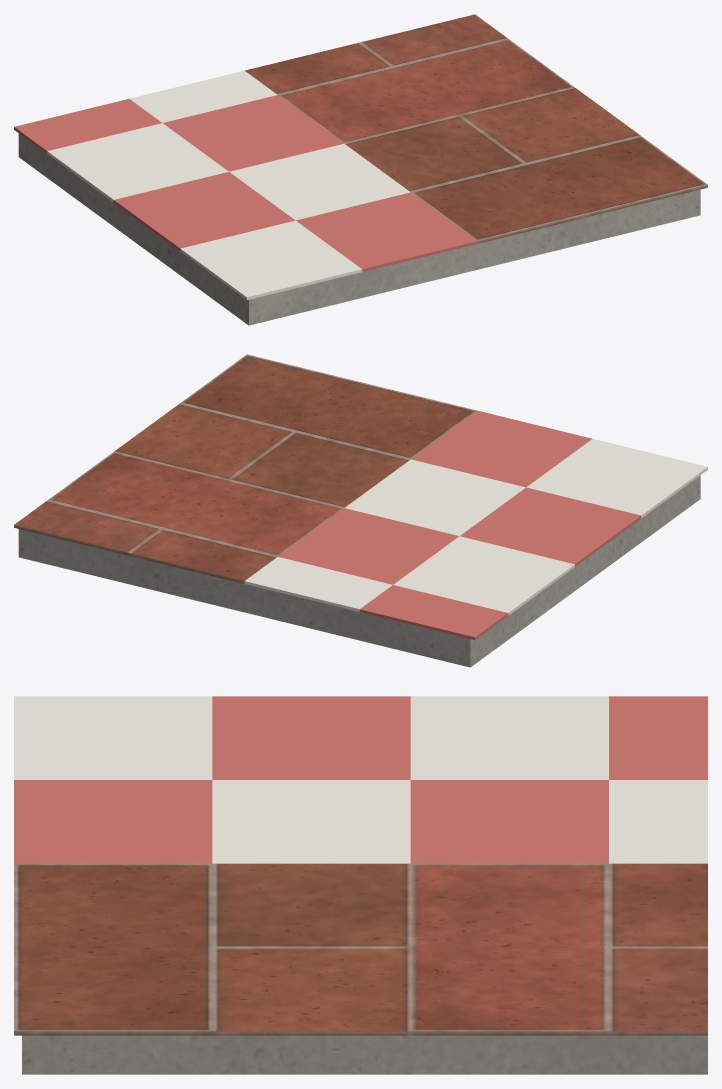
File: floor_half_e0_0_25_0.glb
The picture shows the model from 3 angles, top to bottom: view 1: azimuth 30°, elevation 25°; view 2: azimuth 150°, elevation 25°; view 3: azimuth 270°, elevation 25°; orthographic projection. The views are drawn at different scales.
Visible parts, largest first — view 1: floor_half_e0_0_25_0_quarry, floor_half_e0_0_25_0_tile_w, floor_half_e0_0_25_0_tile_r, floor_half_e0_0_25_0_concrete; view 2: floor_half_e0_0_25_0_quarry, floor_half_e0_0_25_0_tile_w, floor_half_e0_0_25_0_tile_r, floor_half_e0_0_25_0_concrete; view 3: floor_half_e0_0_25_0_quarry, floor_half_e0_0_25_0_tile_r, floor_half_e0_0_25_0_tile_w, floor_half_e0_0_25_0_concrete.
Part boxes in pixels (<box>): floor_half_e0_0_25_0_quarry: <box>245,14,707,243</box>; floor_half_e0_0_25_0_tile_w: <box>47,70,410,299</box>; floor_half_e0_0_25_0_tile_r: <box>14,95,477,271</box>; floor_half_e0_0_25_0_concrete: <box>18,133,700,325</box>; floor_half_e0_0_25_0_quarry: <box>14,354,476,583</box>; floor_half_e0_0_25_0_tile_w: <box>244,439,707,615</box>; floor_half_e0_0_25_0_tile_r: <box>278,410,641,639</box>; floor_half_e0_0_25_0_concrete: <box>18,475,700,667</box>; floor_half_e0_0_25_0_quarry: <box>14,863,707,1035</box>; floor_half_e0_0_25_0_tile_r: <box>14,696,707,863</box>; floor_half_e0_0_25_0_tile_w: <box>14,696,707,863</box>; floor_half_e0_0_25_0_concrete: <box>22,1035,707,1074</box>.
Bounding box in the file's own units: 2 × 0.13 × 1.75.
4 materials, 2 textured.
